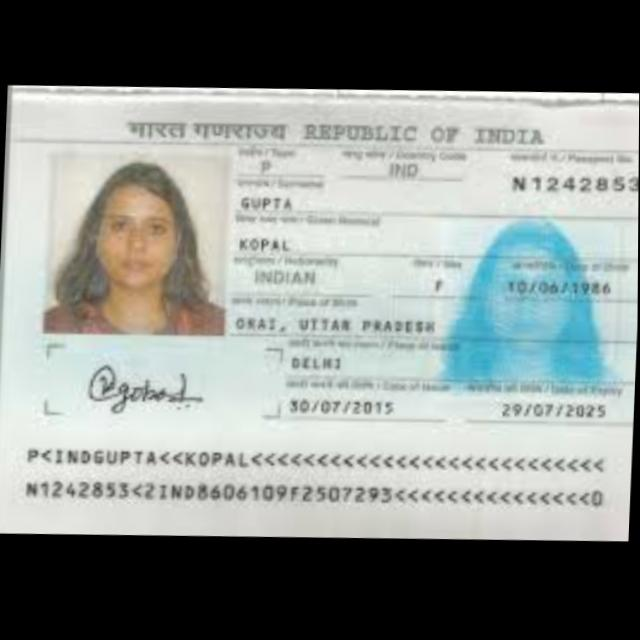passport: (0, 74, 640, 555)
